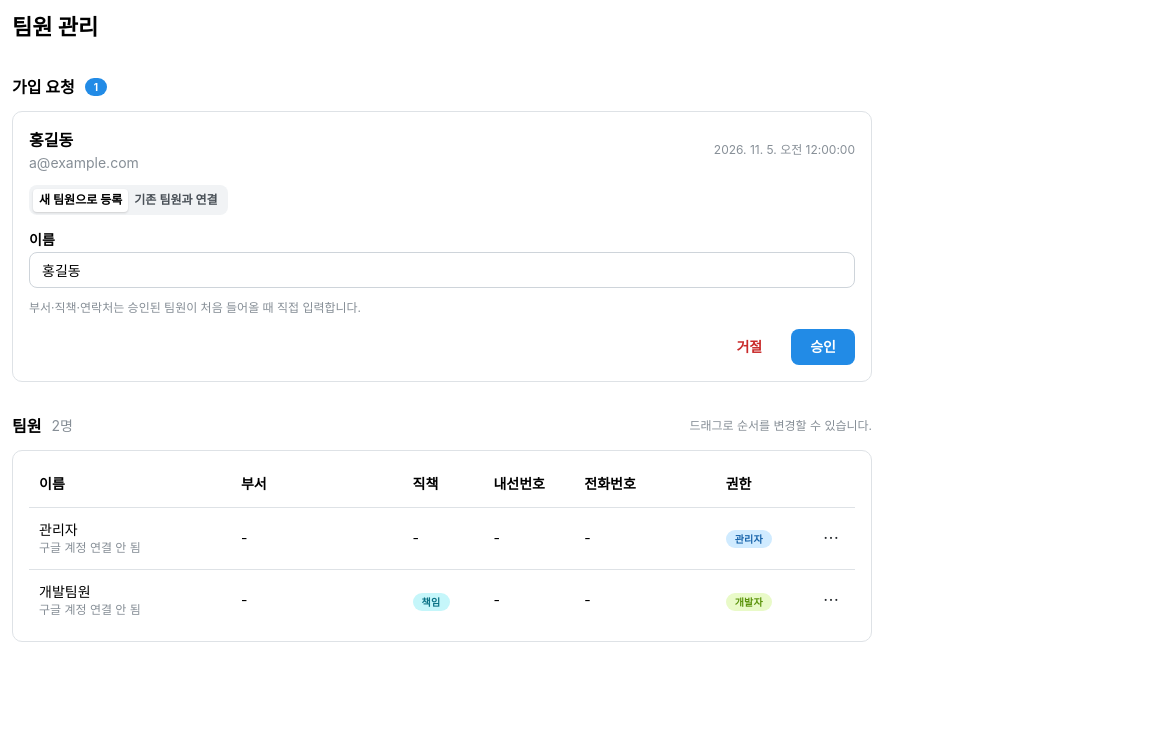
Scenario: 팀원 관리 › 개발자 권한은 권한 칸에 개발자로 보이고 권한 변경·삭제 메뉴가 없다
This screenshot has width=1164, height=732.
Expected: the text "개발자" is shown, [735, 594, 763, 610]
Expected: the text "책임" is shown, [422, 594, 440, 610]
What coordinates should you click on to do the following:
click the button named "개발팀원 메뉴"
I would click on:
 (831, 600)
Its box is [817, 586, 845, 614].
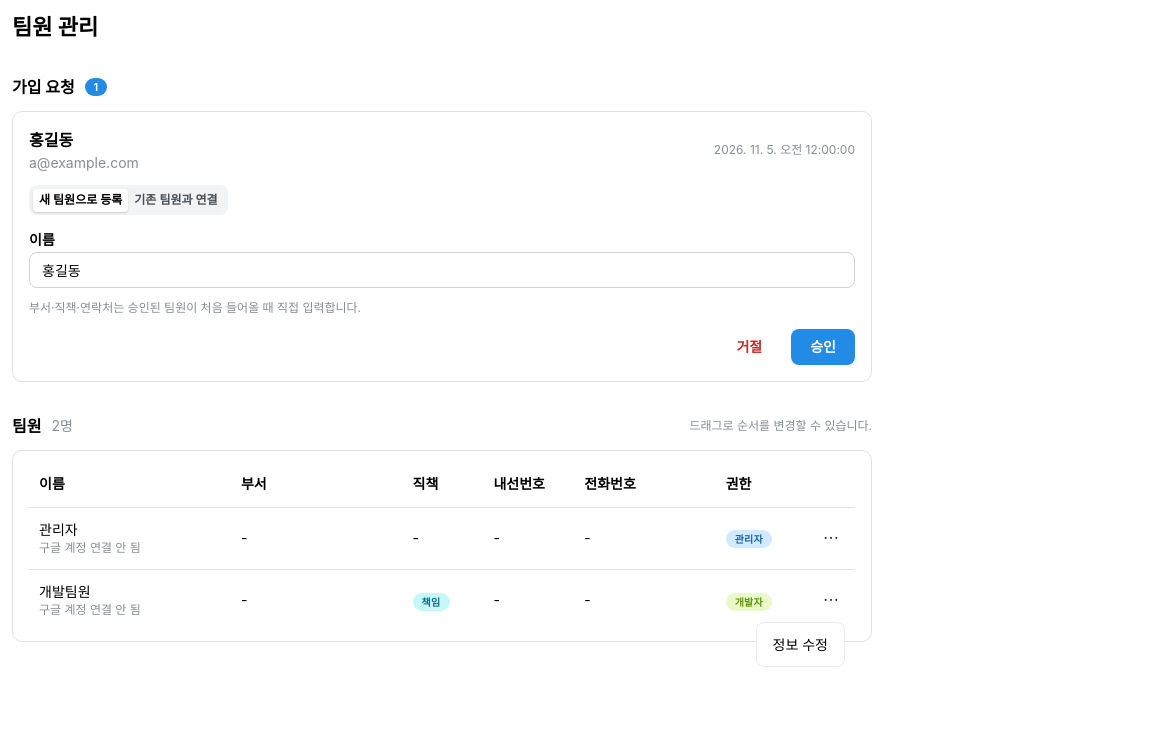
Result: the text "정보 수정" is shown at [772, 634, 828, 656]
